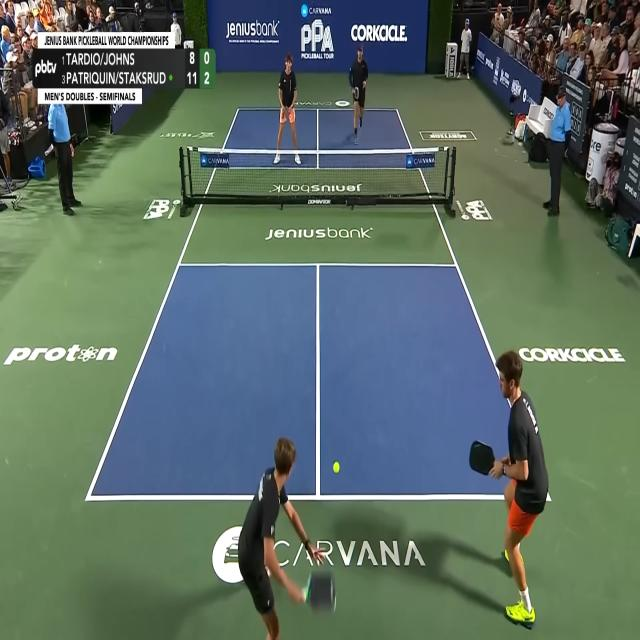ball: (333, 460, 340, 474)
